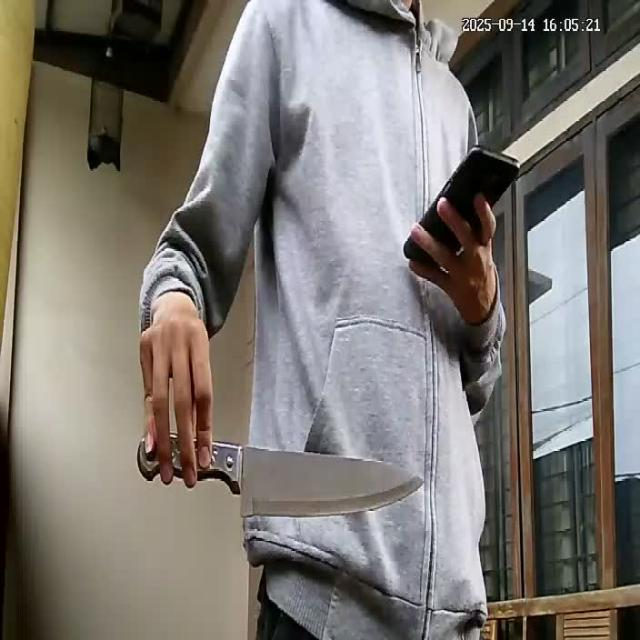senjata_tajam: (212, 442, 428, 522)
